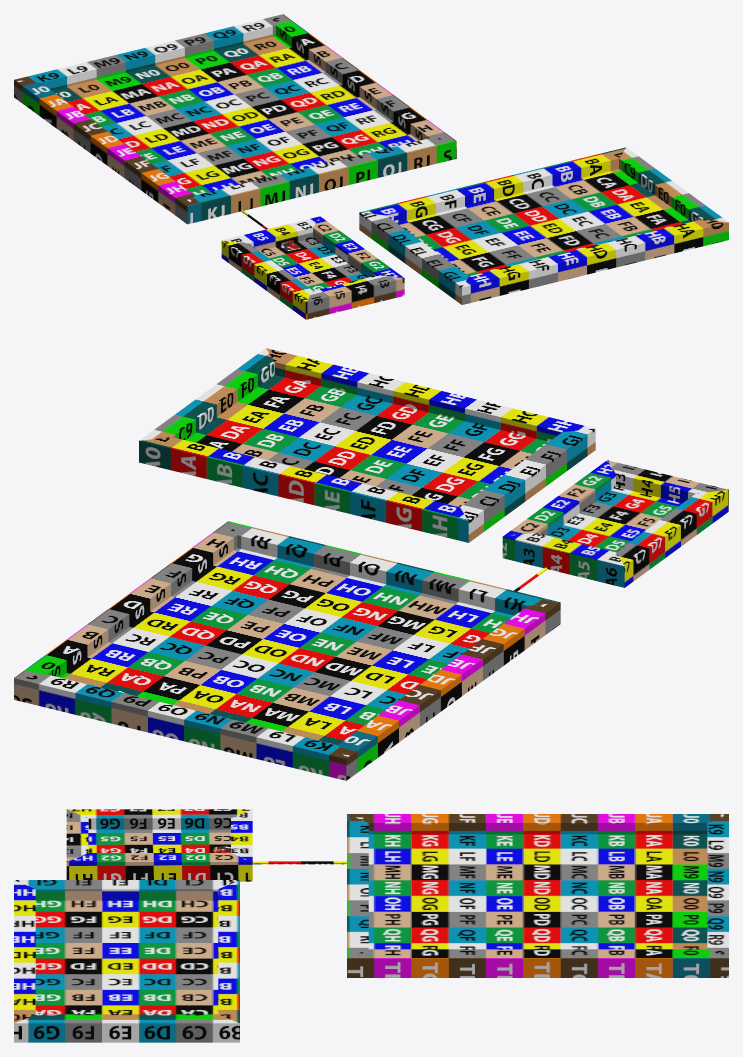
Rendered from pictureframe7.FBX.
The picture shows the model from 3 angles, top to bottom: view 1: azimuth 30°, elevation 25°; view 2: azimuth 150°, elevation 25°; view 3: azimuth 270°, elevation 25°; orthographic projection. The views are drawn at different scales.
Visible parts, largest first — view 1: pictureframe7; view 2: pictureframe7; view 3: pictureframe7.
Boxes of the visible parts, bbox=[...] form: pictureframe7: bbox=[14, 14, 728, 319]; pictureframe7: bbox=[14, 348, 728, 780]; pictureframe7: bbox=[14, 809, 728, 1042].
Bounding box in the file's own units: 23.44 × 1.07 × 33.06.
1 material, 1 textured.
